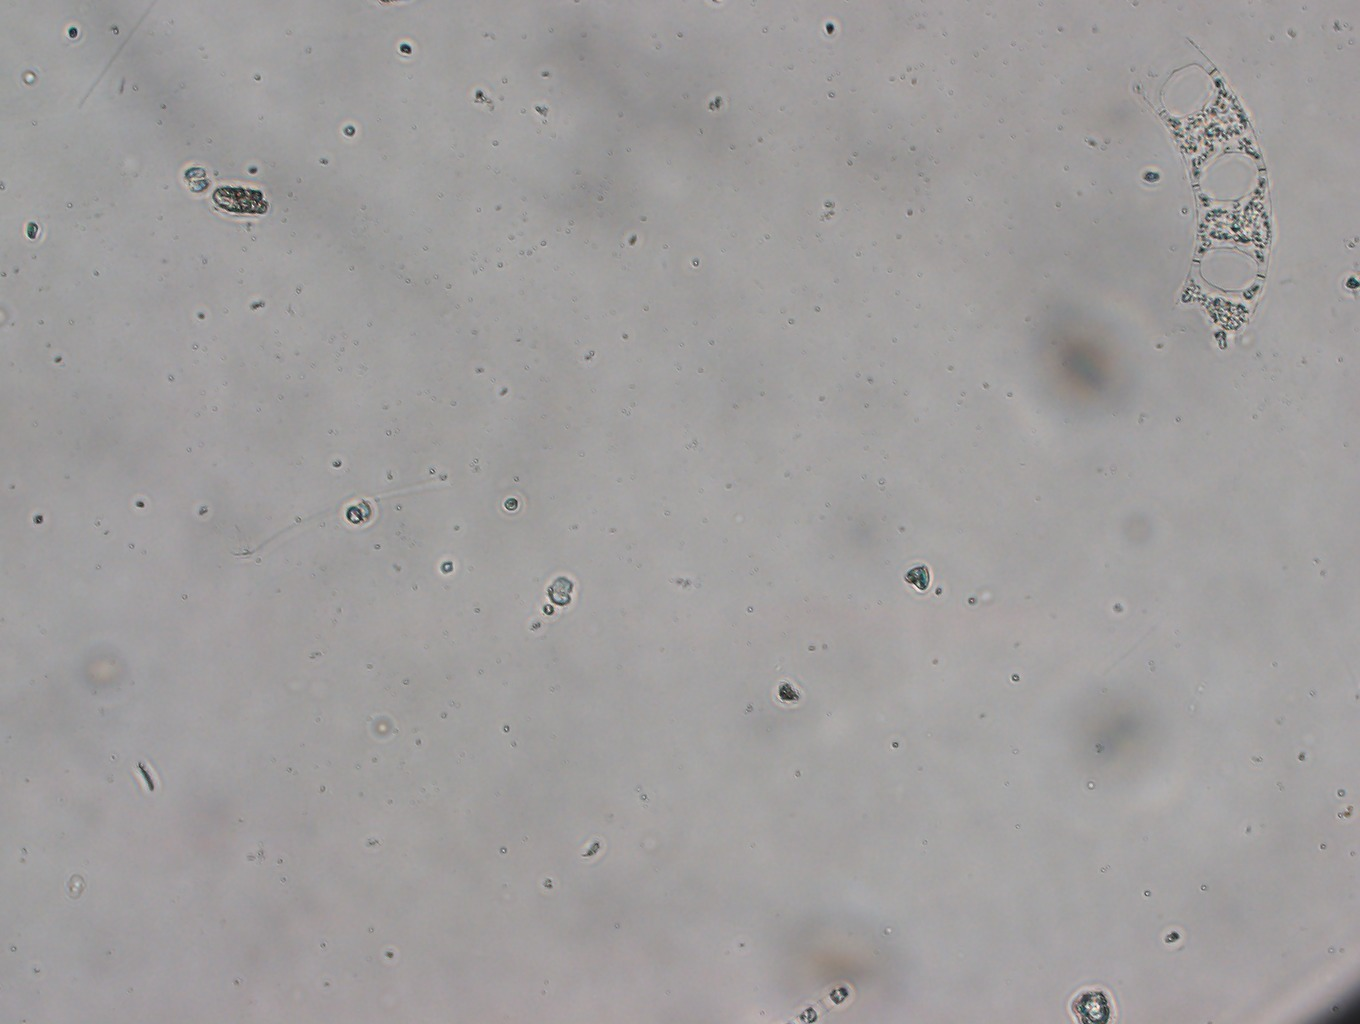eucampia: (1130, 40, 1273, 347)
